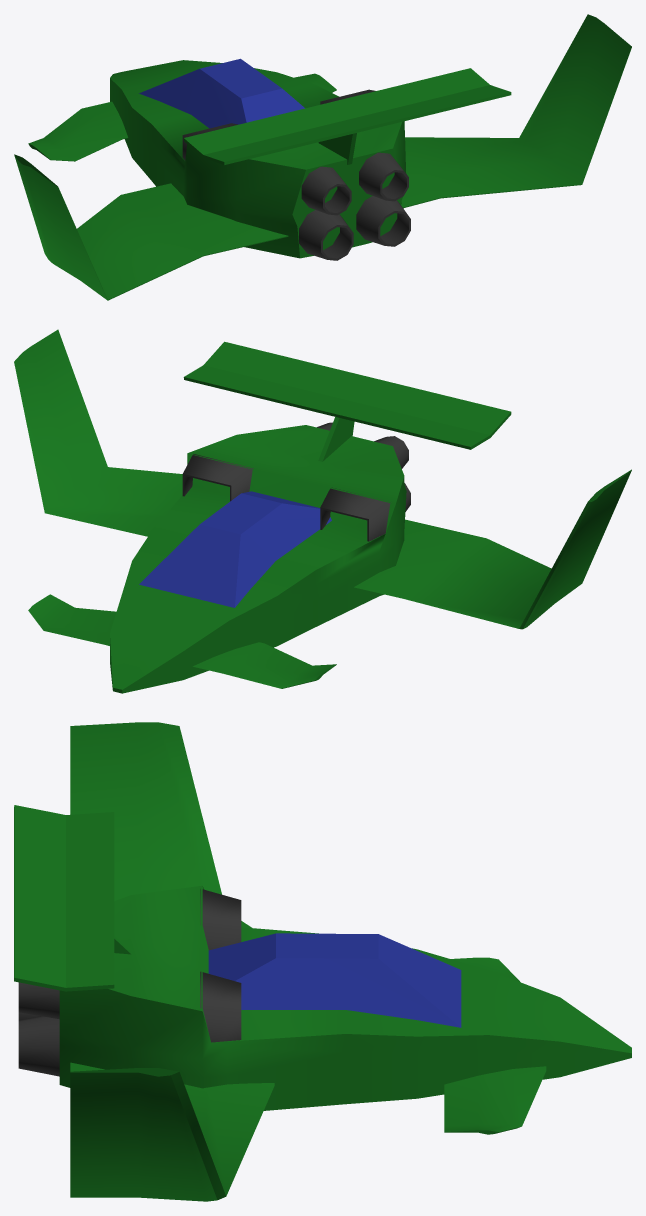
The model's file is car02.FBX.
3 views of the same model, one above another, from view 1: azimuth 30°, elevation 25°; view 2: azimuth 150°, elevation 25°; view 3: azimuth 270°, elevation 25° (orthographic). The views are drawn at different scales.
Parts seen in each view (by area): view 1: Box001, car, Line001, Box004, Box005, Tube002, Tube001, Tube003, Tube004, Box003; view 2: car, Box001, Line001, Box004, Box005, Tube005, Tube006, Box003; view 3: car, Box001, Line001, Box004, Box005, Tube006, Tube002, Tube005, Tube004.
Boxes of the visible parts, box(x1,y1,x2,y2) form: Box001: box(14, 14, 631, 300); car: box(110, 60, 406, 258); Line001: box(183, 68, 511, 164); Box004: box(139, 58, 304, 128); Box005: box(28, 73, 336, 161); Tube002: box(356, 196, 410, 246); Tube001: box(299, 210, 353, 260); Tube003: box(301, 166, 351, 215); Tube004: box(359, 152, 408, 201); Box003: box(318, 133, 356, 164); car: box(110, 425, 406, 693); Box001: box(14, 329, 631, 629); Line001: box(183, 341, 511, 449); Box004: box(139, 491, 331, 607); Box005: box(28, 594, 336, 688); Tube005: box(320, 487, 391, 541); Tube006: box(182, 454, 253, 501); Box003: box(318, 417, 354, 461); car: box(59, 885, 631, 1110); Box001: box(70, 722, 274, 1201); Line001: box(14, 805, 114, 991); Box004: box(208, 933, 461, 1027); Box005: box(444, 957, 546, 1134); Tube006: box(200, 971, 241, 1042); Tube002: box(18, 1016, 59, 1076); Tube005: box(200, 889, 241, 950); Tube004: box(18, 982, 59, 1019).
Size of the model in its own units: 20 by 4.52 by 15.11.
